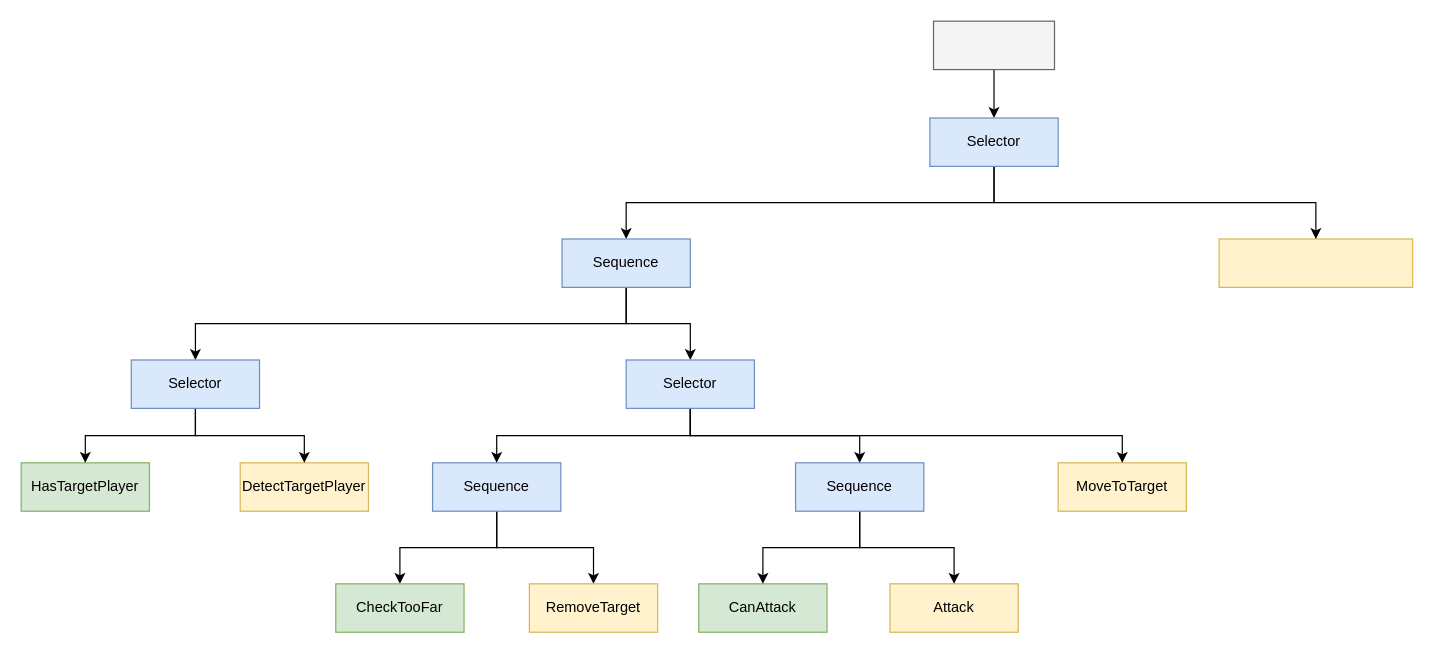
The diagram is 1434 pixels wide and 653 high, and some of its shapes have lost their labels. Each missing label, with the box of its shape:
MoveRandomly: (1218, 238, 1413, 287)
ROOT: (932, 20, 1055, 70)
